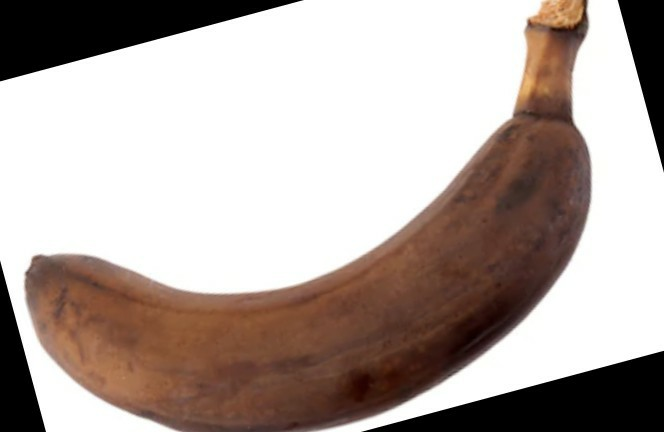rotten_banana: (31, 21, 595, 428)
